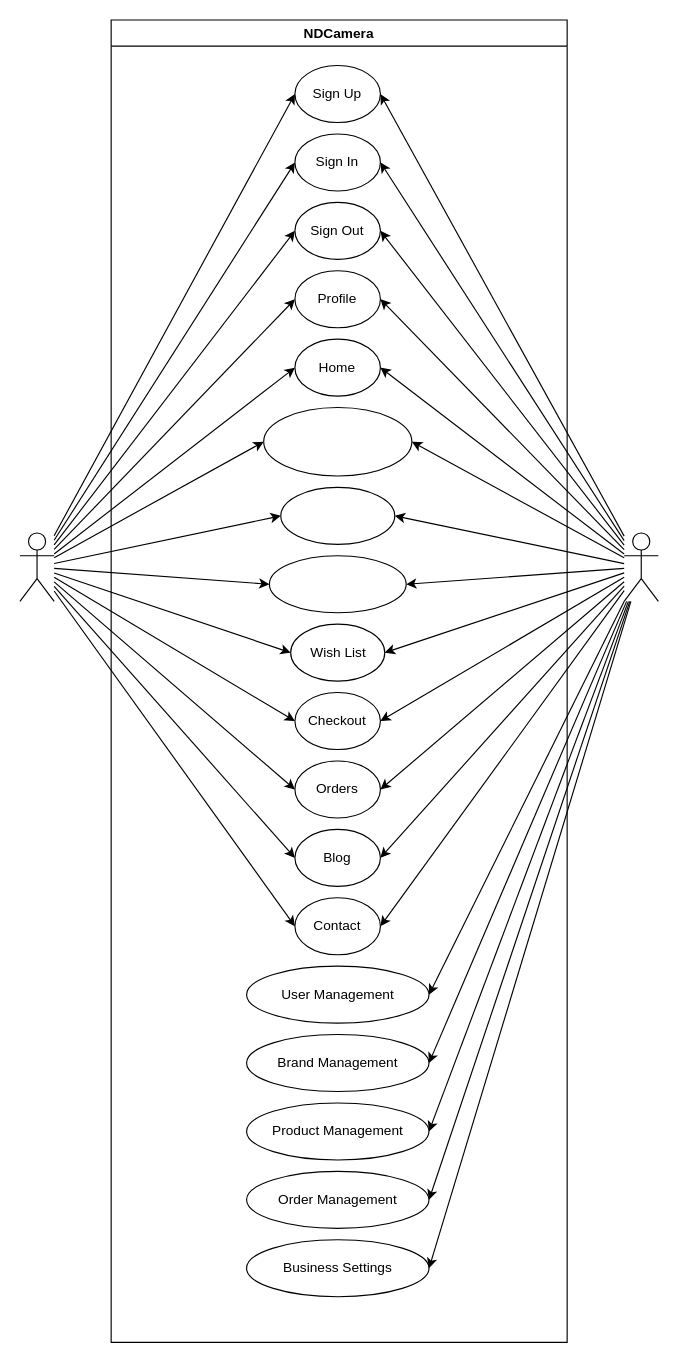
This 681x1362 diagram has some shape labels left out. The shapes that lost their labels are listed below. From the top down, each one's centre as x and y in pixels, then its label:
At (337,441): "Shop (Advanced Search)".
At (337,515): "Product View".
At (36,566): "User".
At (337,584): "Shopping Cart".
At (640,566): "Admin".
